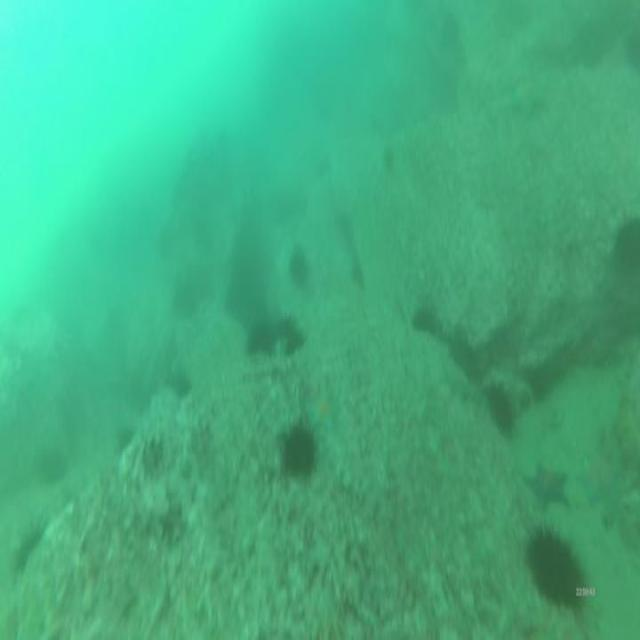echinus: (521, 522, 590, 621), (278, 414, 319, 484), (10, 517, 50, 577), (480, 378, 516, 442), (610, 211, 640, 279), (446, 334, 484, 387), (36, 442, 71, 490), (245, 319, 278, 359), (286, 242, 310, 291), (113, 419, 138, 461), (409, 300, 438, 335), (166, 366, 193, 399), (271, 314, 299, 343), (282, 330, 308, 360), (347, 250, 365, 290), (380, 142, 398, 176)
starfish: (577, 447, 623, 512), (520, 455, 569, 512), (303, 387, 342, 433)
